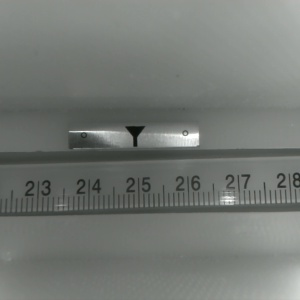2: (23, 181, 34, 196), (225, 174, 235, 190), (174, 176, 184, 192), (276, 173, 286, 188), (125, 177, 135, 192), (75, 179, 85, 194), (91, 178, 100, 194)
3: (40, 180, 50, 196)
5: (141, 177, 150, 192)
6: (190, 175, 200, 191)
7: (241, 174, 250, 189)
8: (292, 172, 300, 188)
finger: (123, 126, 145, 147)
